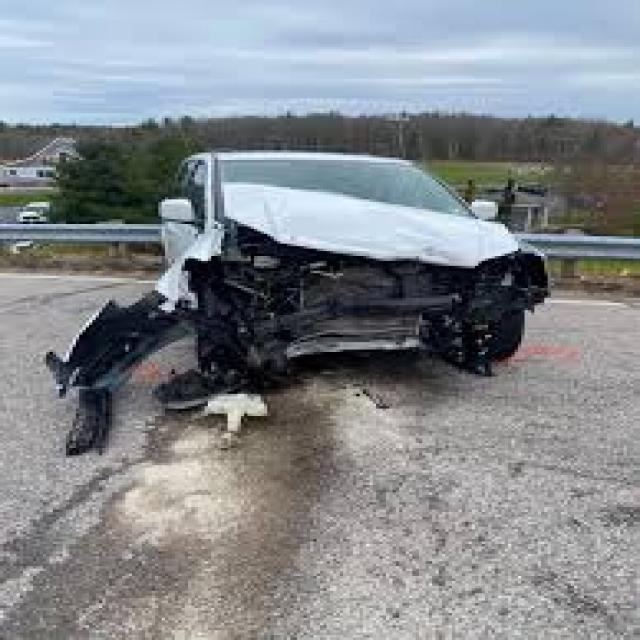accident: (45, 127, 567, 423)
